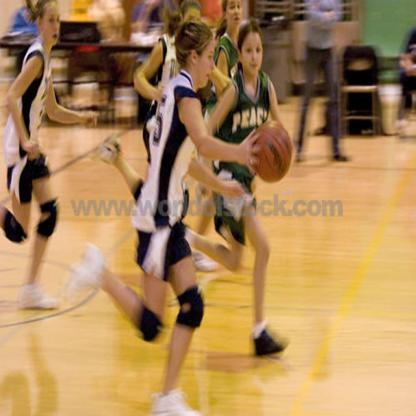face: (192, 48, 216, 89), (244, 40, 264, 77), (43, 12, 61, 46), (185, 8, 202, 43), (229, 3, 243, 27)
